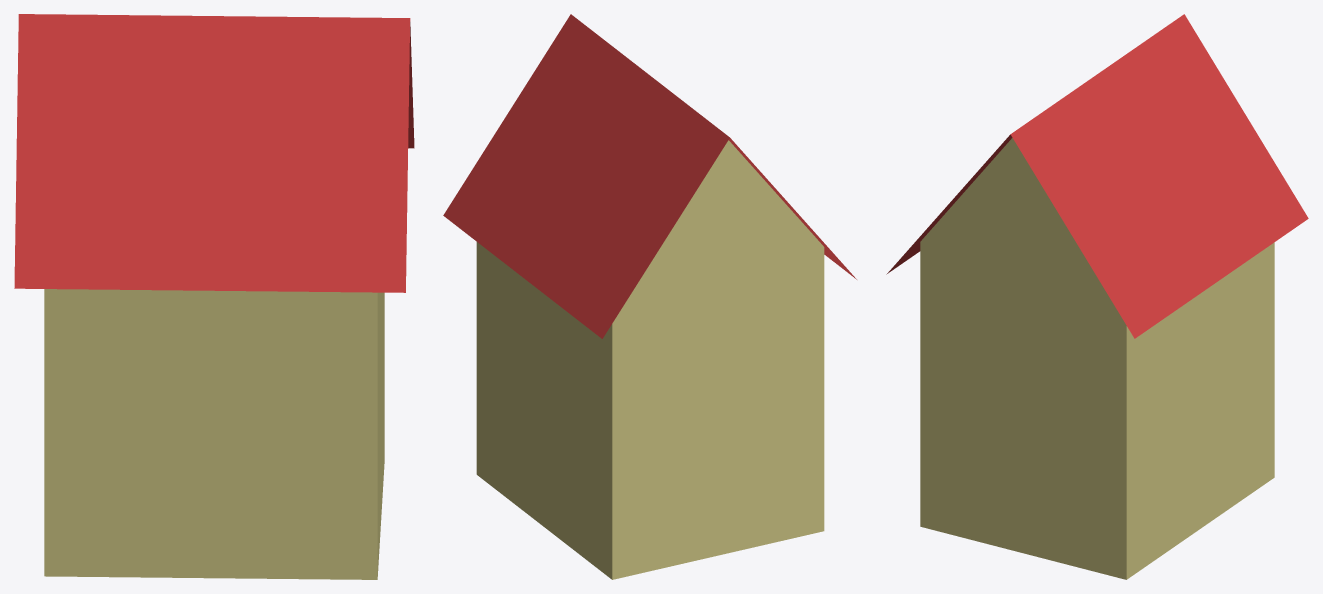
The picture shows the model from 3 angles, left to right: view 1: azimuth 30°, elevation 25°; view 2: azimuth 150°, elevation 25°; view 3: azimuth 270°, elevation 25°; orthographic projection. The views are drawn at different scales.
Visible parts, largest first — view 1: group_5, group_3, group_4; view 2: group_5, group_3, group_4; view 3: group_5, group_3, group_4.
Part boxes in pixels (bbox=[...]): group_5: bbox=[44, 289, 384, 579]; group_3: bbox=[14, 14, 410, 292]; group_4: bbox=[14, 14, 414, 292]; group_5: bbox=[476, 140, 824, 579]; group_3: bbox=[443, 14, 856, 338]; group_4: bbox=[566, 14, 729, 335]; group_5: bbox=[920, 138, 1274, 579]; group_3: bbox=[887, 14, 1308, 338]; group_4: bbox=[886, 14, 1255, 274].
Bounding box in the file's own units: 13.23 × 12.81 × 14.31.
